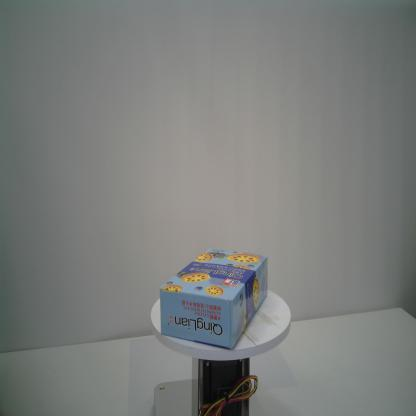Dessert: (160, 247, 268, 351)
